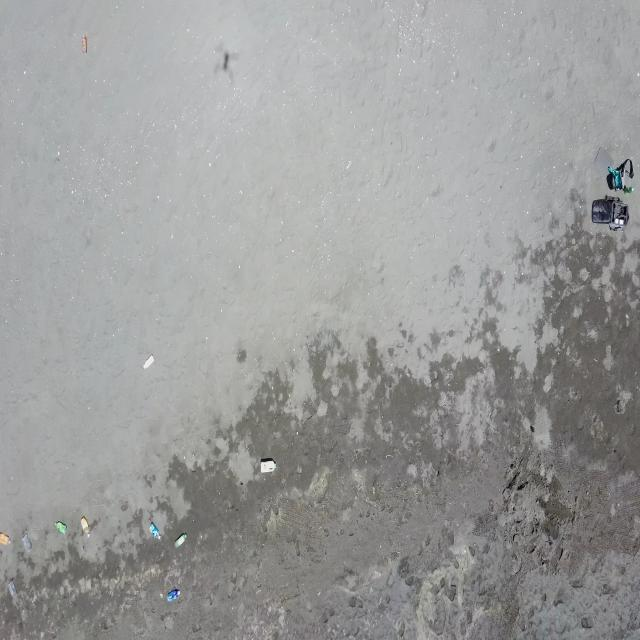plastic-bottle: (260, 456, 278, 474), (149, 521, 162, 543), (166, 588, 181, 604), (174, 532, 187, 549), (54, 520, 68, 535), (80, 516, 90, 536), (0, 530, 11, 546), (143, 354, 154, 370)
takeaway-cup: (22, 533, 32, 552), (8, 580, 17, 600)
